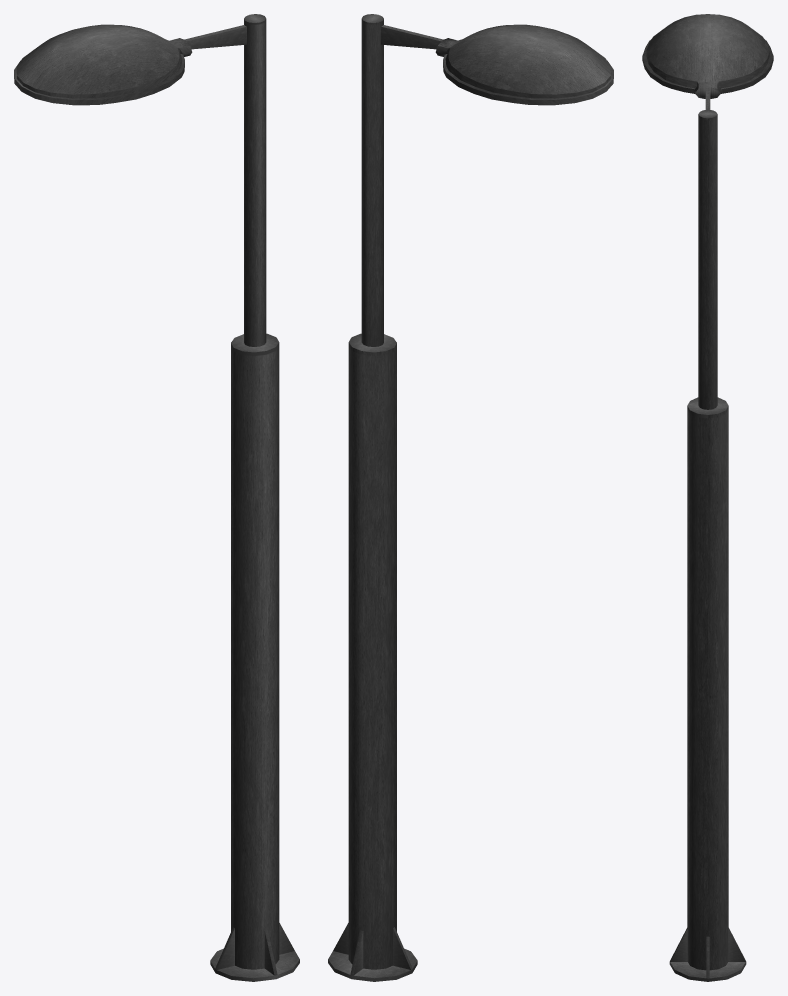
3 renders of one model, left to right at view 1: azimuth 30°, elevation 25°; view 2: azimuth 150°, elevation 25°; view 3: azimuth 270°, elevation 25°, orthographic. The views are drawn at different scales.
Visible parts, largest first — view 1: MainBuilding; view 2: MainBuilding; view 3: MainBuilding.
Part boxes in pixels (x1,y1,x2,y2): MainBuilding: [14, 14, 299, 981]; MainBuilding: [328, 14, 613, 981]; MainBuilding: [642, 14, 773, 981].
Size of the model in its own units: 2.67 by 9.04 by 1.24.
1 material, 1 textured.
